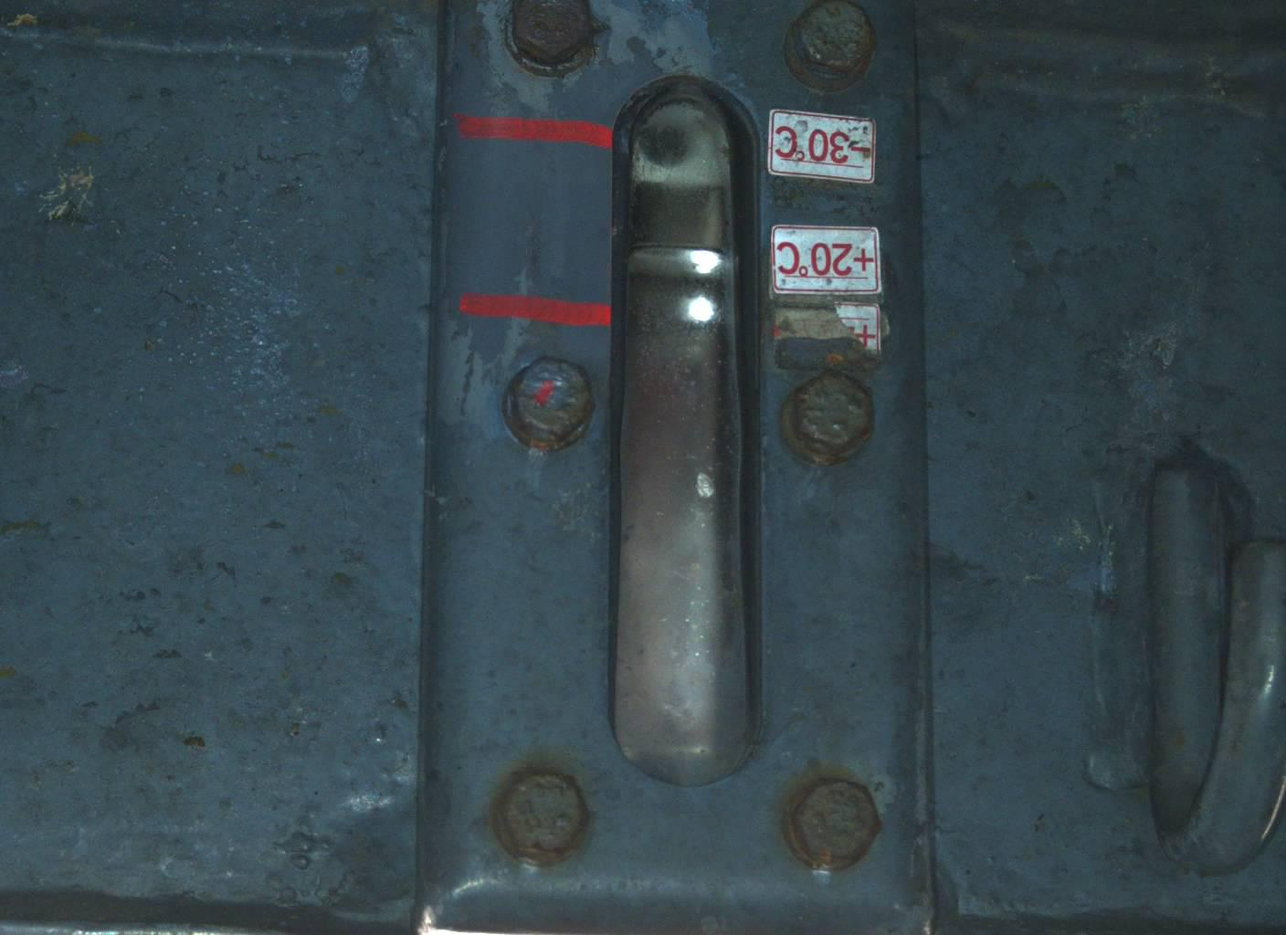oil_level_gauge: (460, 0, 893, 883)
